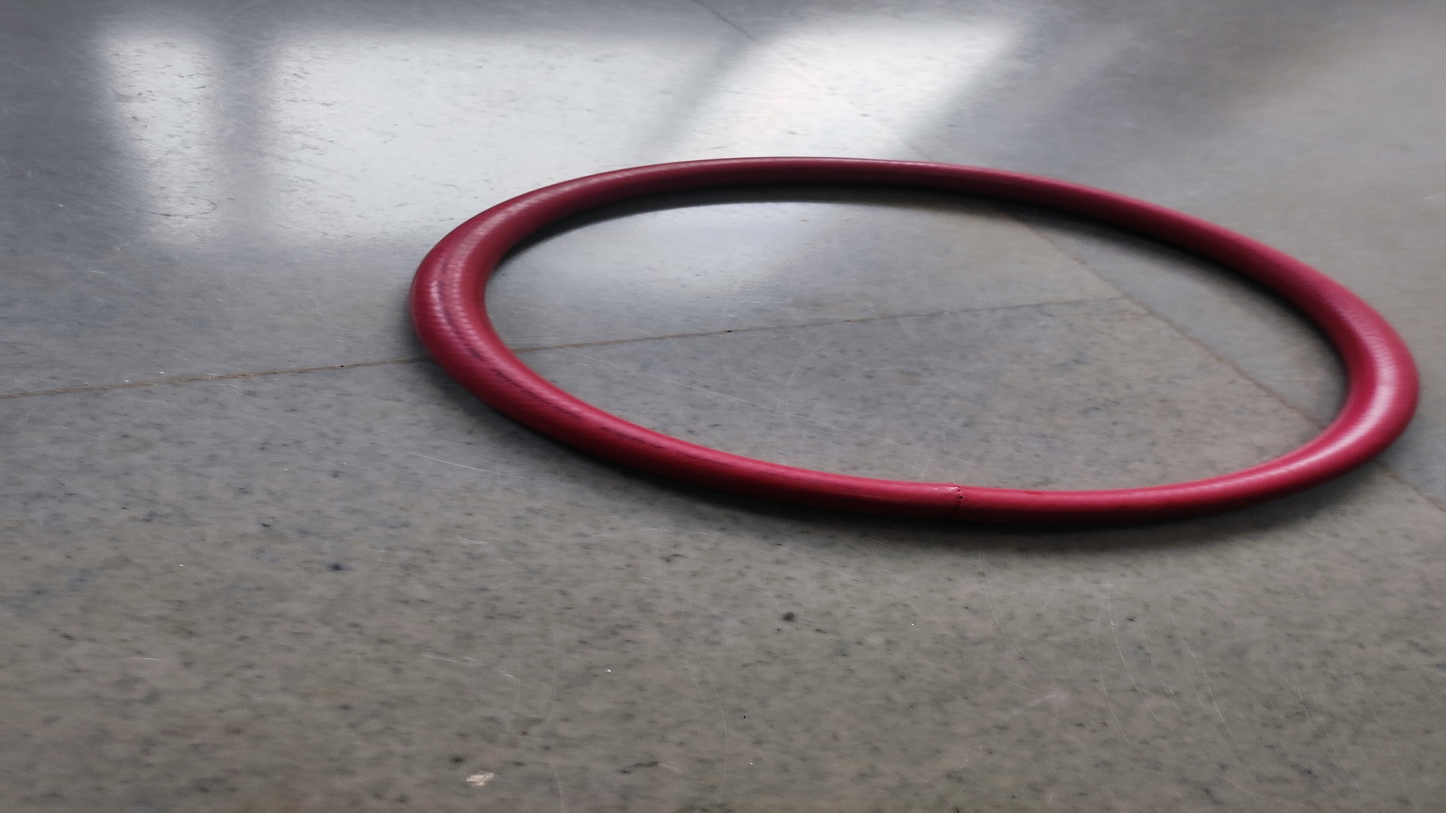Red ring: (413, 157, 1418, 527)
